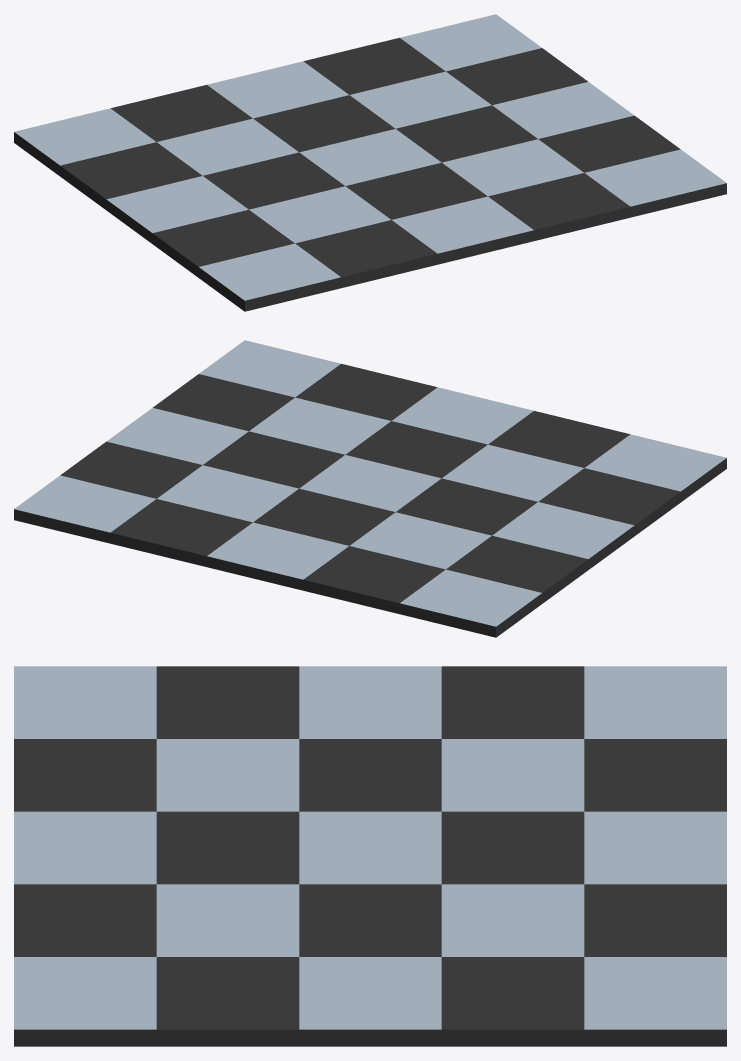
Rendered from ToiletFloor.fbx.
3 renders of one model, top to bottom at view 1: azimuth 30°, elevation 25°; view 2: azimuth 150°, elevation 25°; view 3: azimuth 270°, elevation 25°, orthographic. The views are drawn at different scales.
Visible parts, largest first — view 1: ToiletFloor; view 2: ToiletFloor; view 3: ToiletFloor.
Boxes of the visible parts, x1,y1,x2,y2 form: ToiletFloor: [14, 14, 726, 311]; ToiletFloor: [14, 340, 726, 637]; ToiletFloor: [14, 666, 726, 1046].
Size of the model in its own units: 1191 by 25.95 by 988.
